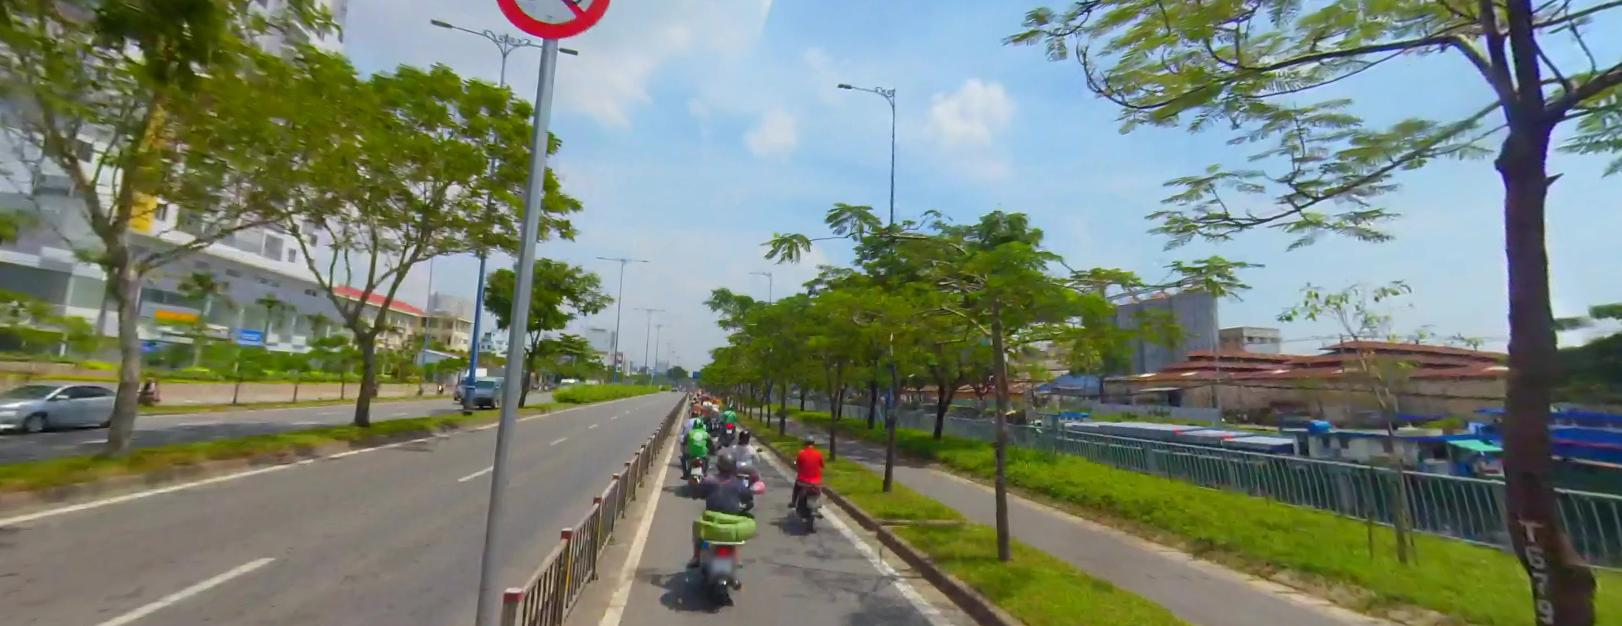Cam con lai: (490, 2, 615, 43)
